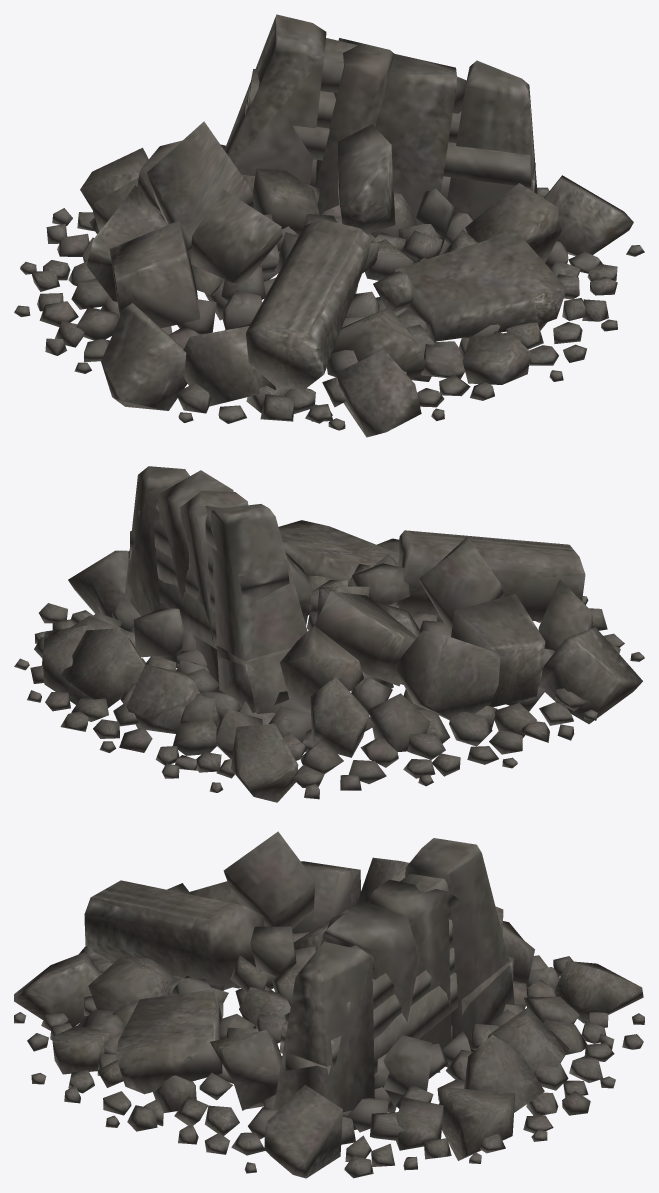
Rendered from d_rubble_half.glb.
3 views of the same model, one above another, from view 1: azimuth 30°, elevation 25°; view 2: azimuth 150°, elevation 25°; view 3: azimuth 270°, elevation 25° (orthographic). The views are drawn at different scales.
Parts seen in each view (by area): view 1: d_rubble_half; view 2: d_rubble_half; view 3: d_rubble_half.
Part boxes in pixels (bbox=[...]): d_rubble_half: bbox=[14, 14, 644, 437]; d_rubble_half: bbox=[14, 466, 644, 802]; d_rubble_half: bbox=[14, 831, 644, 1178].
Size of the model in its own units: 3 by 1.25 by 3.
1 material, 1 textured.
